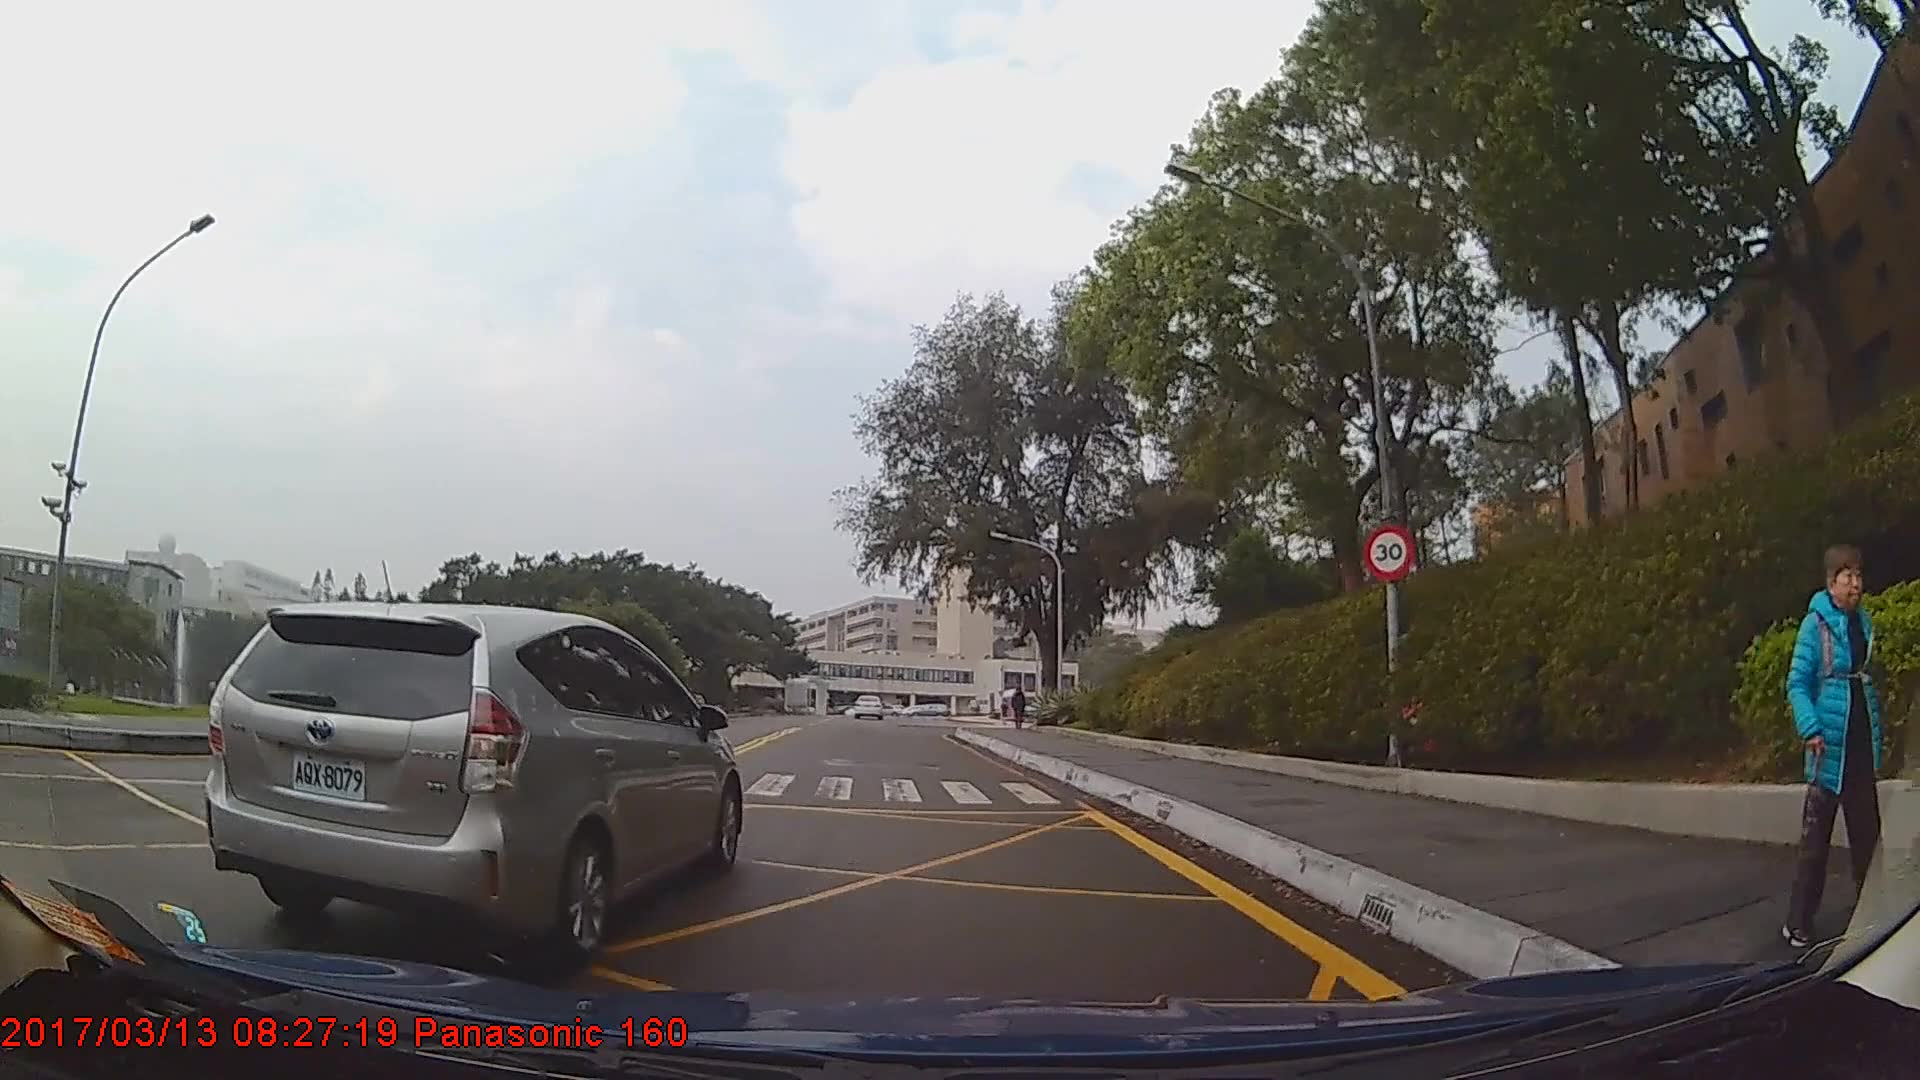pedestrian: (1777, 540, 1889, 947), (1010, 689, 1030, 734)
vehicle: (205, 598, 744, 966), (853, 692, 882, 719)
